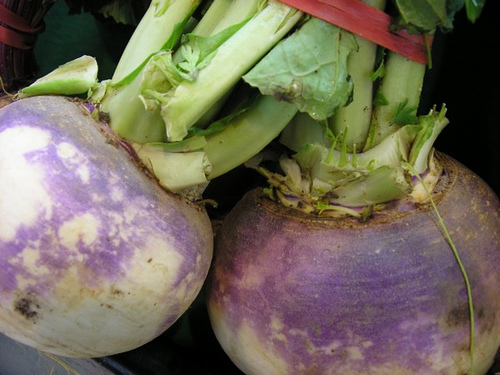turnip: (204, 145, 499, 374), (0, 94, 216, 362)
